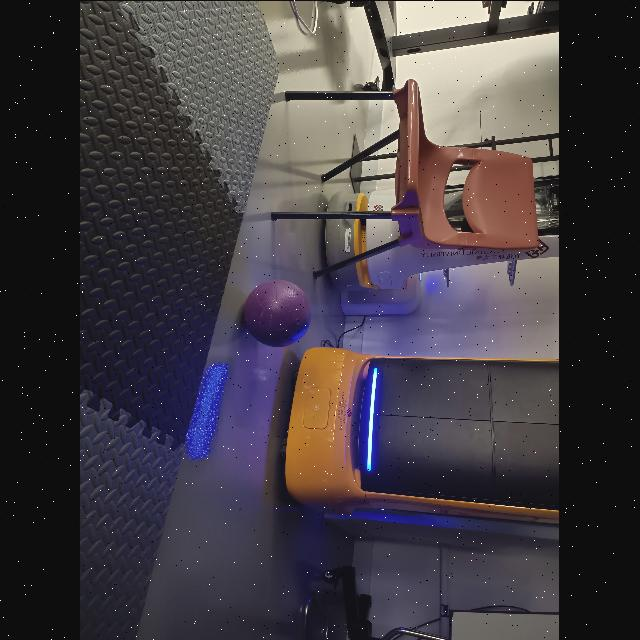P: (242, 278, 312, 346)
